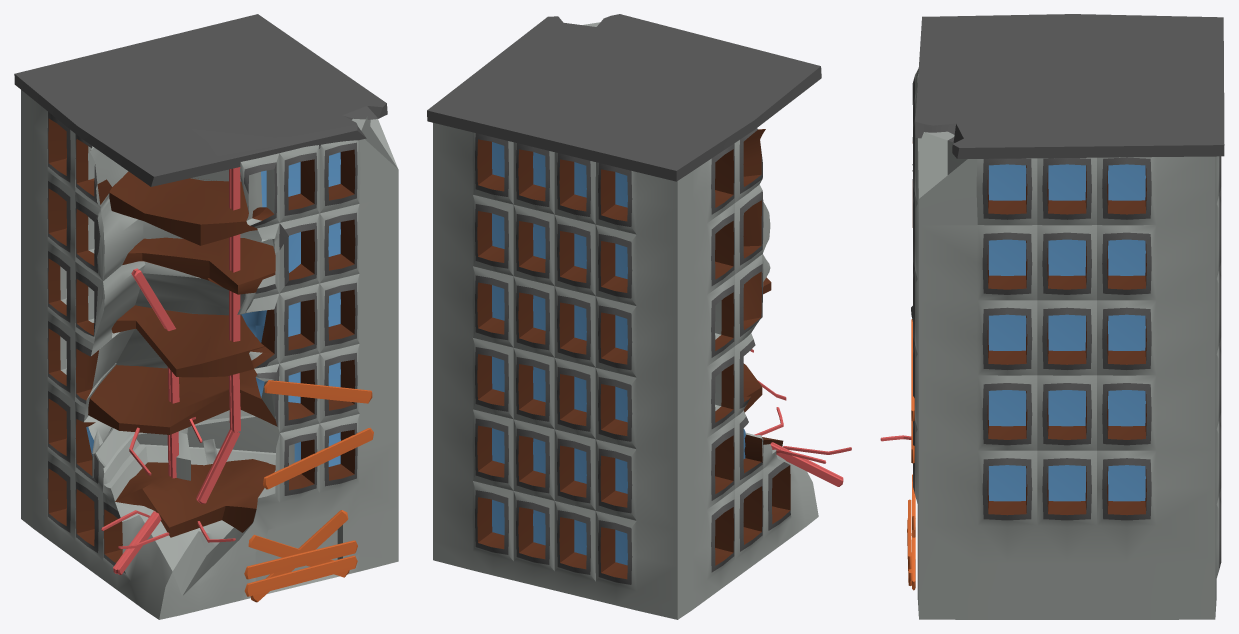
File: PRedioDestruidoCorrigido.fbx
The picture shows the model from 3 angles, left to right: view 1: azimuth 30°, elevation 25°; view 2: azimuth 150°, elevation 25°; view 3: azimuth 270°, elevation 25°; orthographic projection. The views are drawn at different scales.
Visible parts, largest first — view 1: PredioDestruido; view 2: PredioDestruido; view 3: PredioDestruido.
Boxes of the visible parts, <box> form: PredioDestruido: <box>14,14,398,619</box>; PredioDestruido: <box>427,14,851,619</box>; PredioDestruido: <box>880,14,1224,619</box>.
Bounding box in the file's own units: 1440 × 2173 × 1412.
